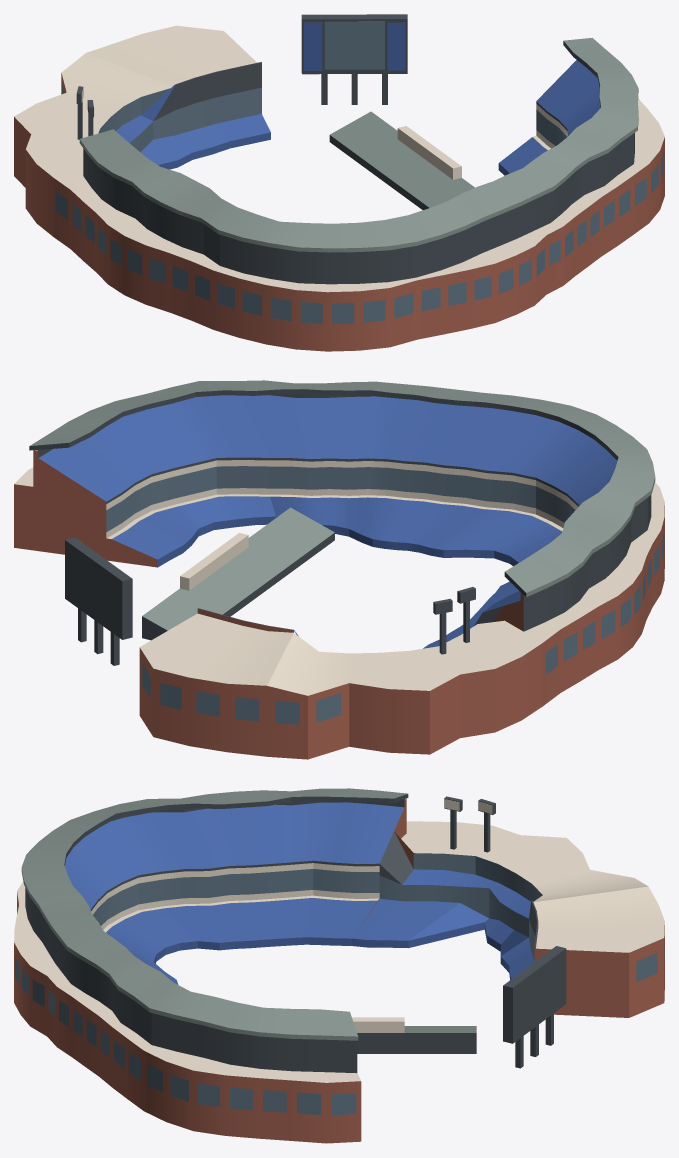
File: atl-center-parc-stadium.glb
The picture shows the model from 3 angles, top to bottom: view 1: azimuth 30°, elevation 25°; view 2: azimuth 150°, elevation 25°; view 3: azimuth 270°, elevation 25°; orthographic projection. The views are drawn at different scales.
Parts seen in each view (by area): view 1: Center Parc Stadium; view 2: Center Parc Stadium; view 3: Center Parc Stadium.
Part boxes in pixels (bbox=[...]): Center Parc Stadium: bbox=[14, 14, 664, 351]; Center Parc Stadium: bbox=[14, 380, 664, 759]; Center Parc Stadium: bbox=[14, 788, 664, 1143].
Size of the model in its own units: 244 by 47.2 by 253.
